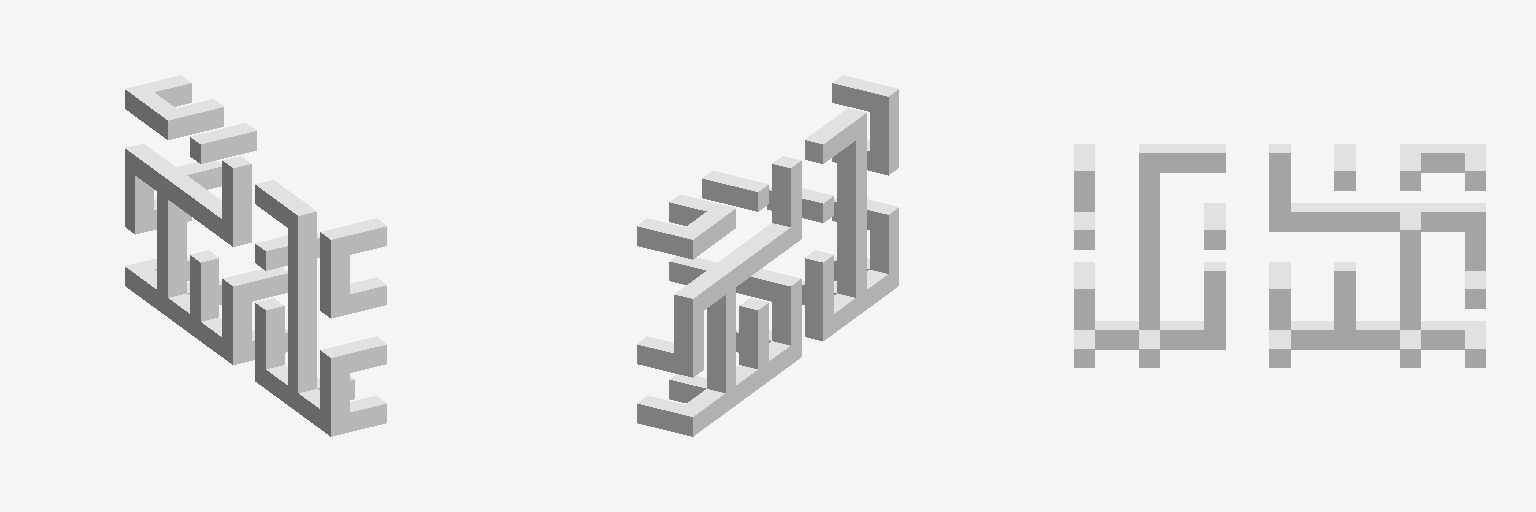
The model's file is platforms-5.obj.
3 renders of one model, left to right at view 1: azimuth 30°, elevation 25°; view 2: azimuth 150°, elevation 25°; view 3: azimuth 270°, elevation 25°, orthographic.
Visible parts, largest first — view 1: object 1; view 2: object 1; view 3: object 1.
Part boxes in pixels (x1,y1,x2,y2): object 1: (125, 75, 386, 436); object 1: (637, 75, 898, 436); object 1: (1074, 144, 1485, 367).
Size of the model in its own units: 0.3 by 1 by 1.9.